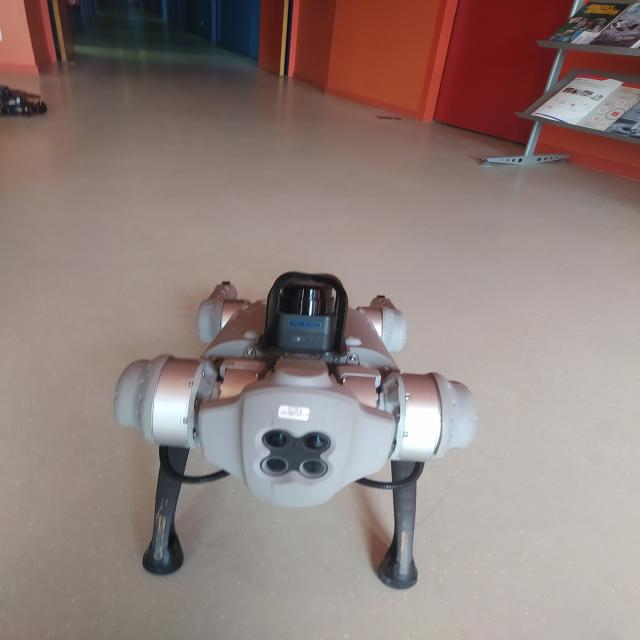unitree-go1-robot: (107, 267, 484, 605)
